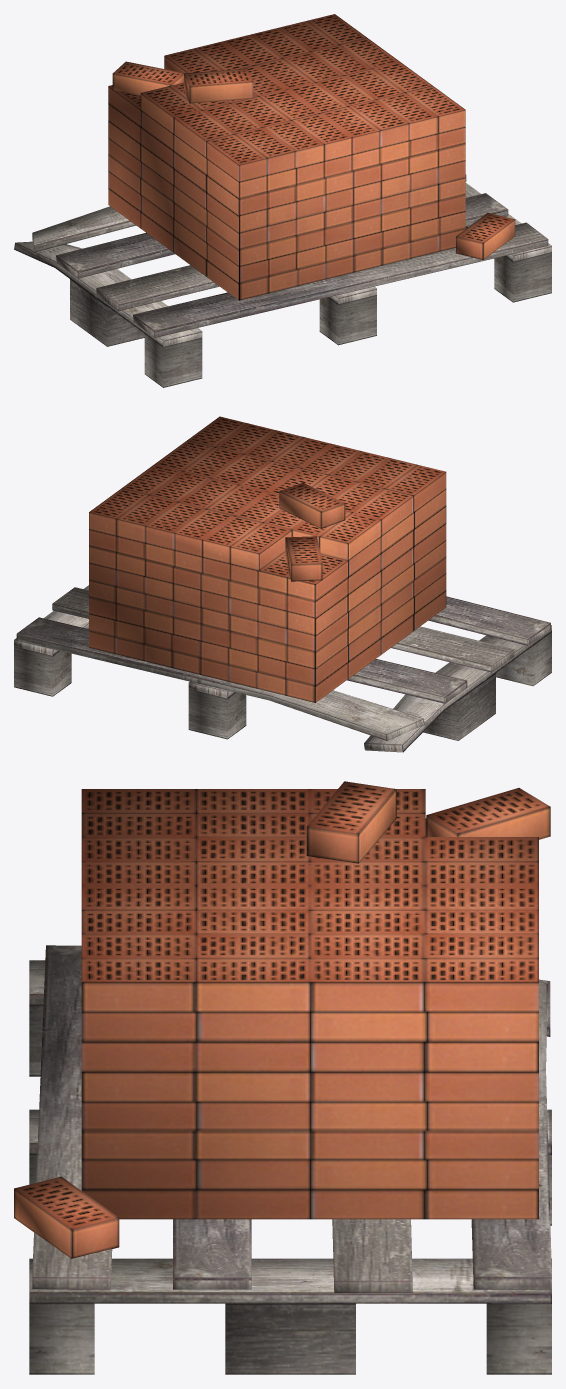
Rendered from PalletBricks.fbx.
3 renders of one model, top to bottom at view 1: azimuth 30°, elevation 25°; view 2: azimuth 150°, elevation 25°; view 3: azimuth 270°, elevation 25°, orthographic. The views are drawn at different scales.
Visible parts, largest first — view 1: PalletBricks; view 2: PalletBricks; view 3: PalletBricks.
Part boxes in pixels (x1=…): PalletBricks: x1=14, y1=14, x2=551, y2=387; PalletBricks: x1=14, y1=416, x2=551, y2=752; PalletBricks: x1=14, y1=781, x2=551, y2=1374.
Bounding box in the file's own units: 1216 × 610 × 824.
